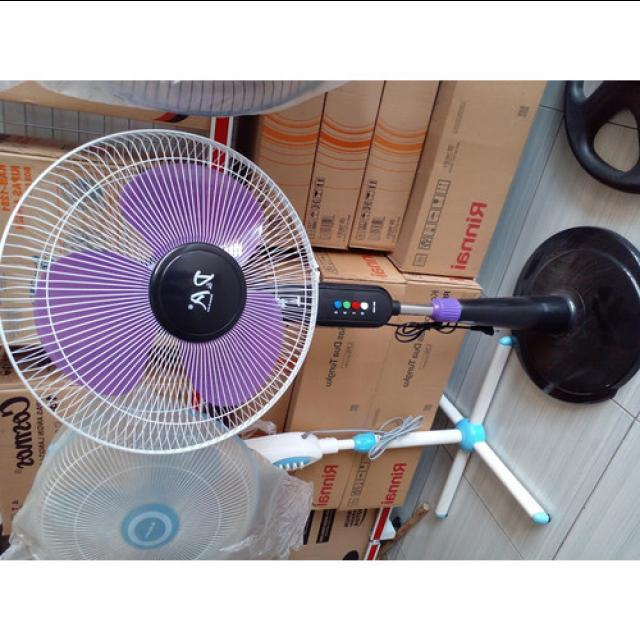fan: (3, 120, 639, 456)
